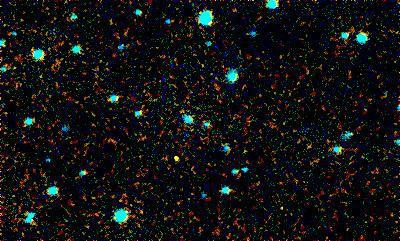star: (157, 148, 187, 178)
